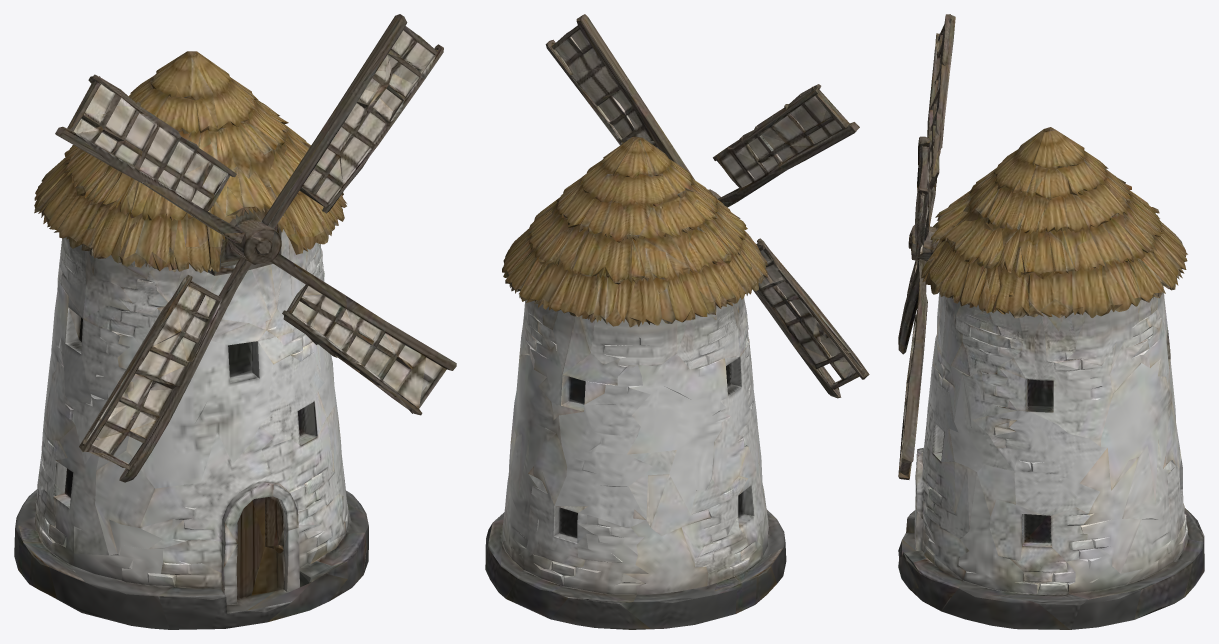
File: windmill_3d.glb
3 renders of one model, left to right at view 1: azimuth 30°, elevation 25°; view 2: azimuth 150°, elevation 25°; view 3: azimuth 270°, elevation 25°, orthographic. The views are drawn at different scales.
Parts seen in each view (by area): view 1: Mesh_0; view 2: Mesh_0; view 3: Mesh_0.
Part boxes in pixels (box(x1,y1,x2,y2)): Mesh_0: box(14, 14, 456, 629); Mesh_0: box(485, 14, 869, 629); Mesh_0: box(898, 14, 1204, 629).
Size of the model in its own units: 3.3 by 4.69 by 2.68.
Materials: 1 (1 with a texture image).
